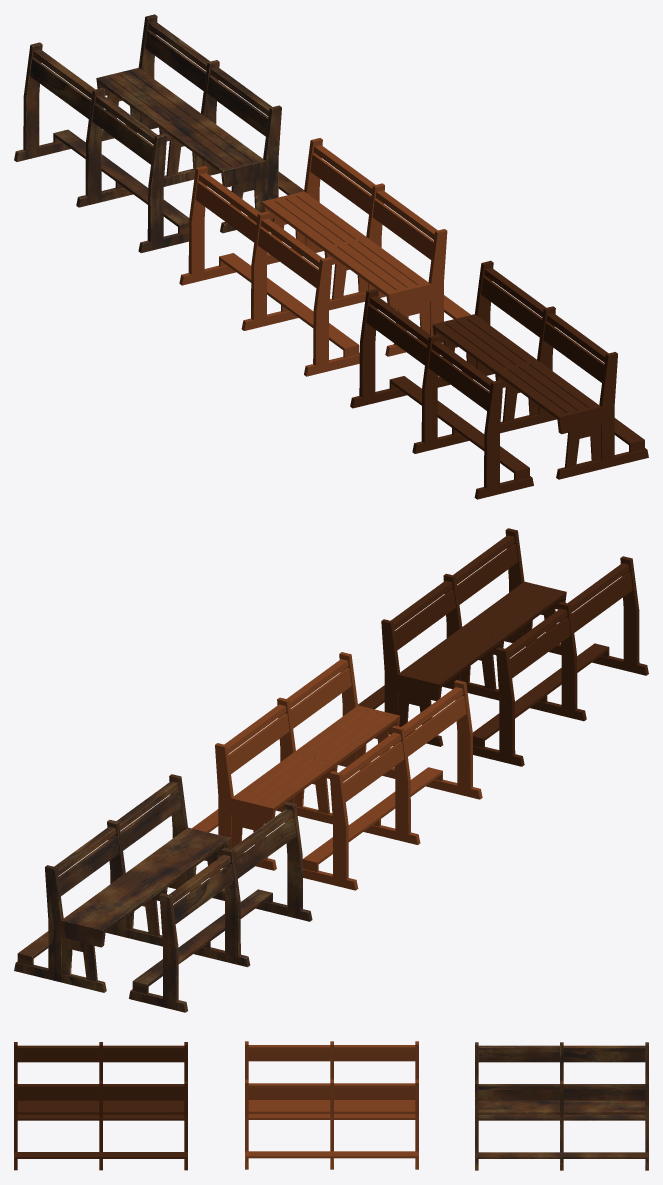
The model's file is bw-pew.lod0.glb.
3 renders of one model, top to bottom at view 1: azimuth 30°, elevation 25°; view 2: azimuth 150°, elevation 25°; view 3: azimuth 270°, elevation 25°, orthographic. The views are drawn at different scales.
Parts seen in each view (by area): view 1: Object_10, Object_6; view 2: Object_10, Object_6; view 3: Object_10, Object_6.
Boxes of the visible parts, box(x1,y1,x2,y2) form: Object_10: box(179, 138, 648, 499); Object_6: box(14, 14, 303, 253); Object_10: box(192, 528, 648, 890); Object_6: box(14, 774, 312, 1012); Object_10: box(14, 1041, 418, 1170); Object_6: box(475, 1042, 648, 1170).
Size of the model in its own units: 0.651 by 0.3984 by 3.
Materials: 2 (1 with a texture image).
